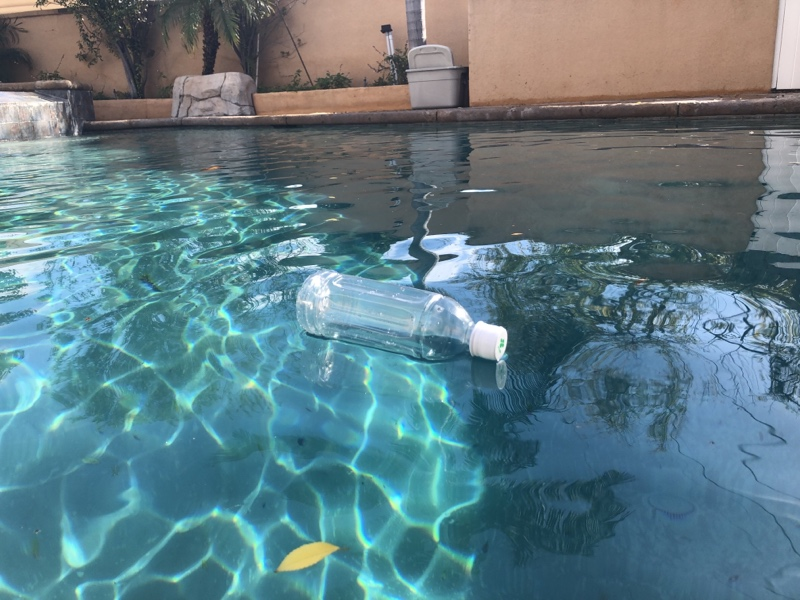Plastic Bottle: (292, 267, 510, 367)
